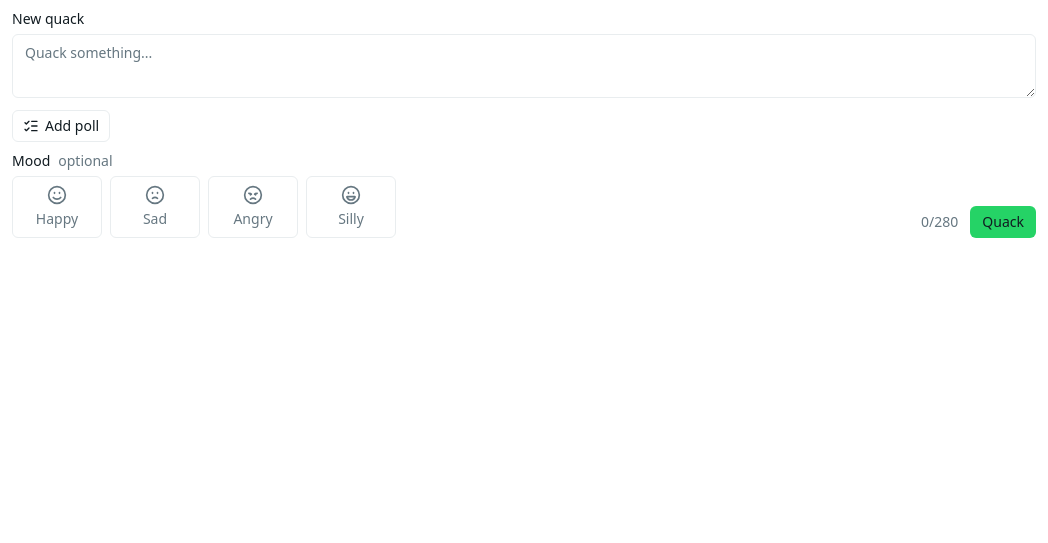
QuackForm poll › lets the third and fourth option be removed, never the first two
Type "Where do we go for lunch?" into the text box labelled "New quack" at (524, 66), box [12,34,1036,98]
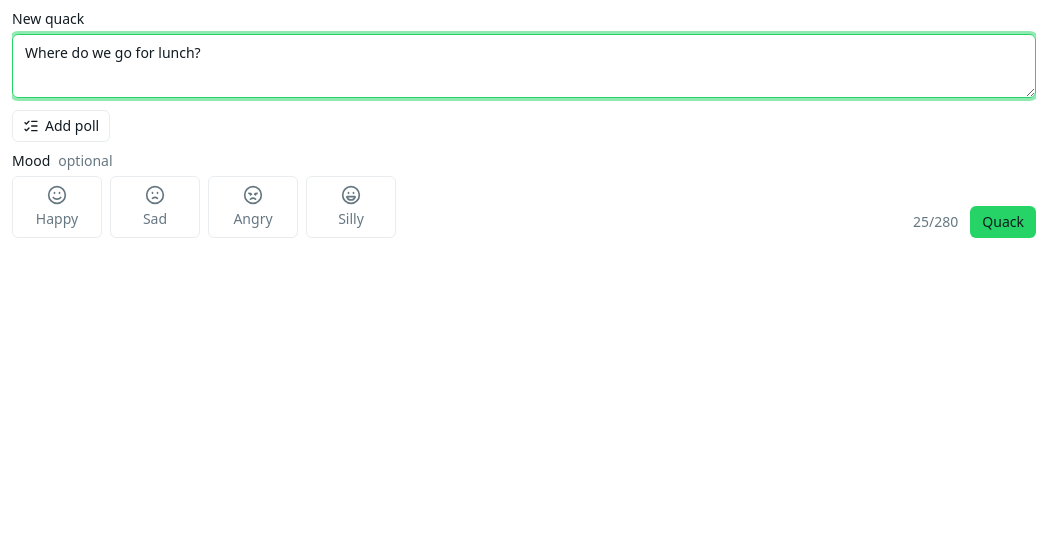
Click the button "Add poll" at (61, 126), box [12,110,110,142]
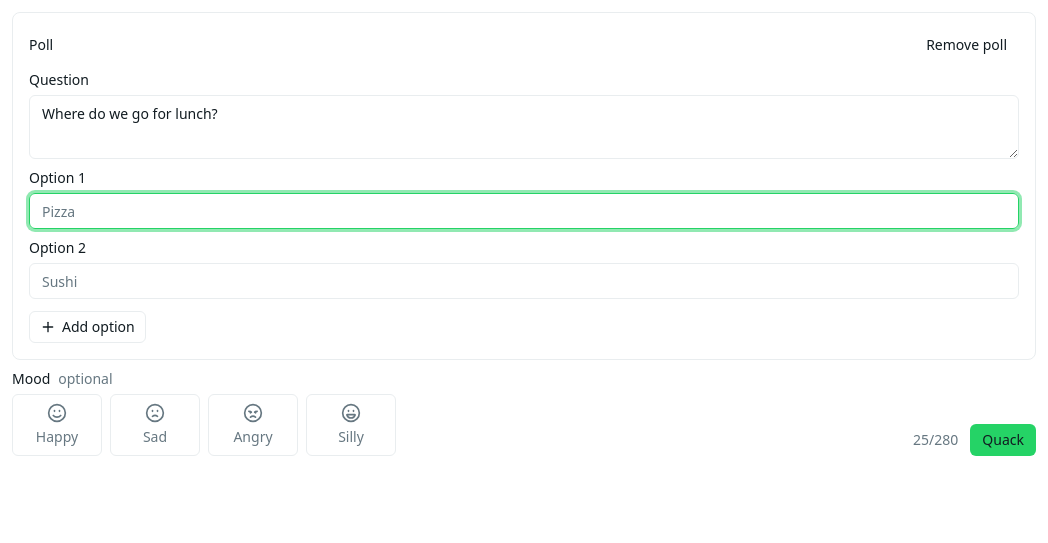
Click the button "Add option" at (87, 327), box [29,311,146,343]
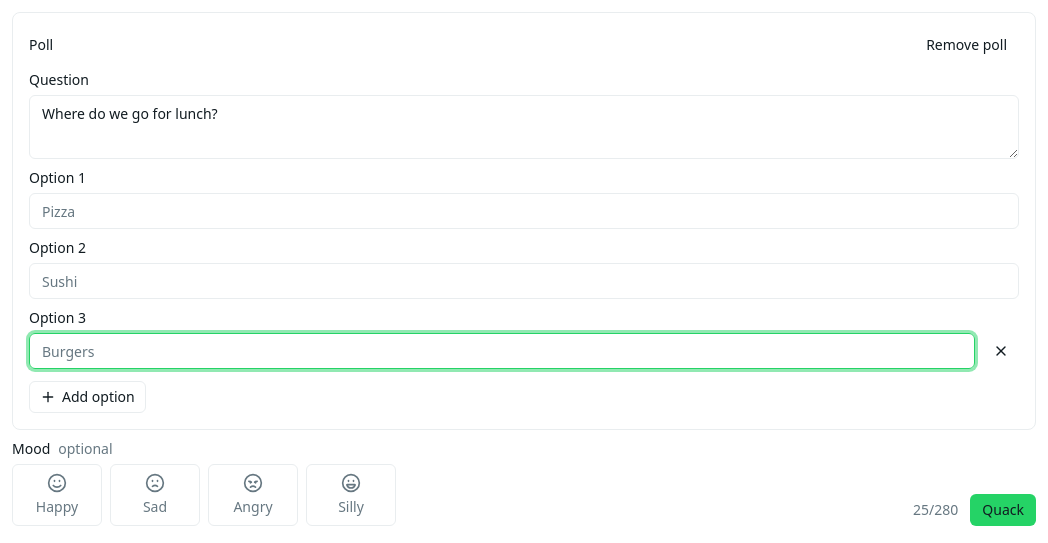
Click the button named "Remove option 3" at (1001, 351), box [983,333,1019,369]
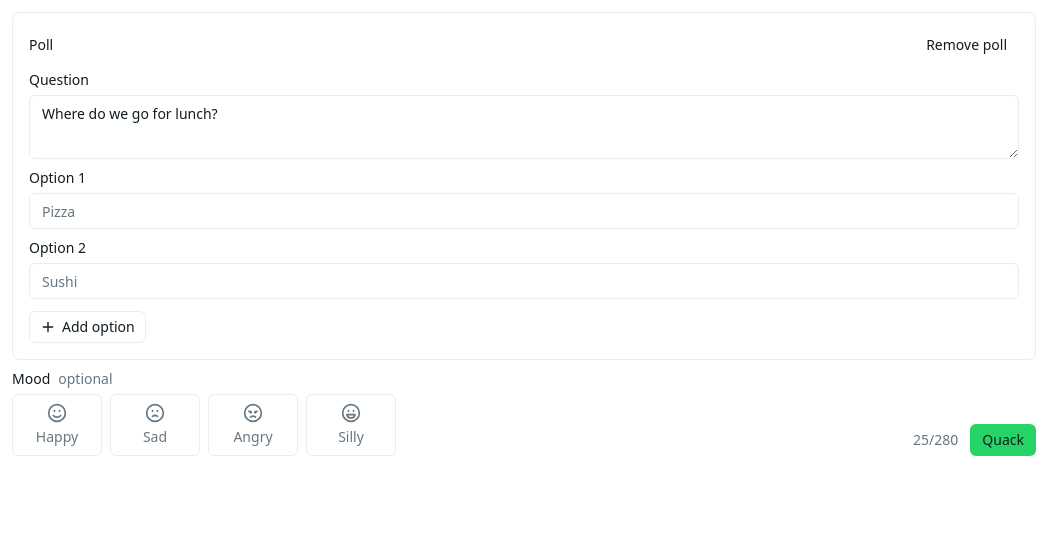
Now the label labelled "Option 3" is gone
